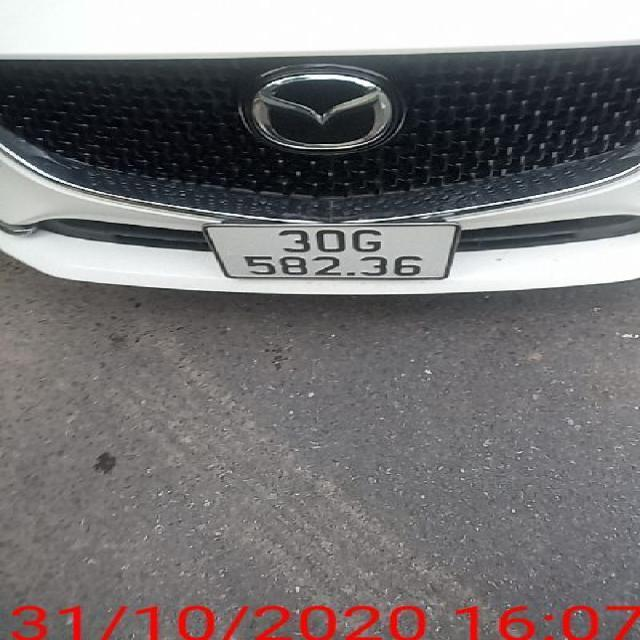bien_so_oto: (202, 220, 464, 284)
